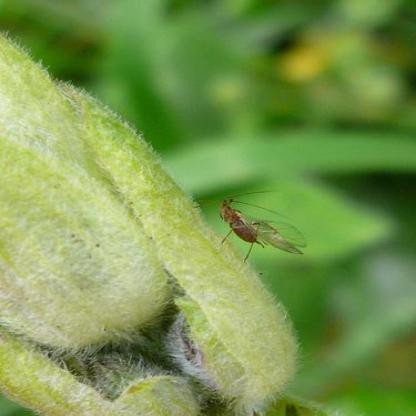aphid: (204, 184, 317, 277)
